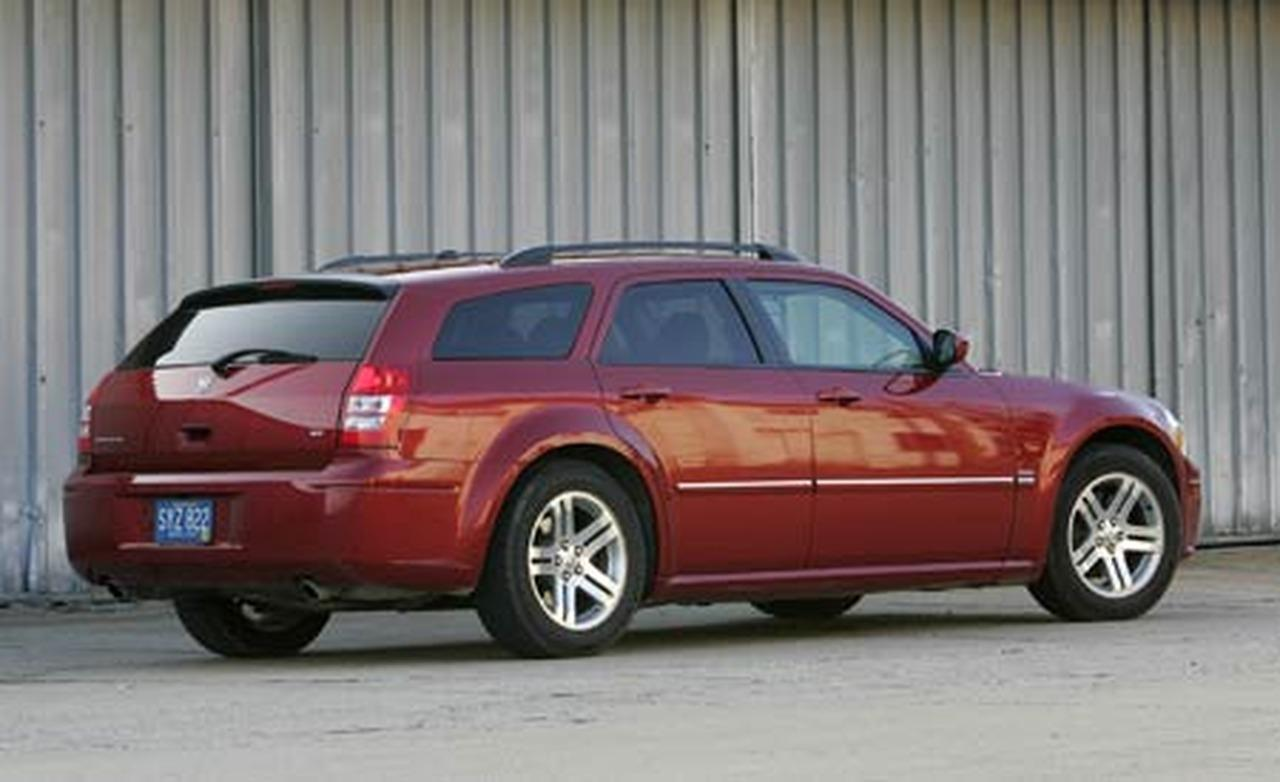Car: (44, 207, 1213, 689)
